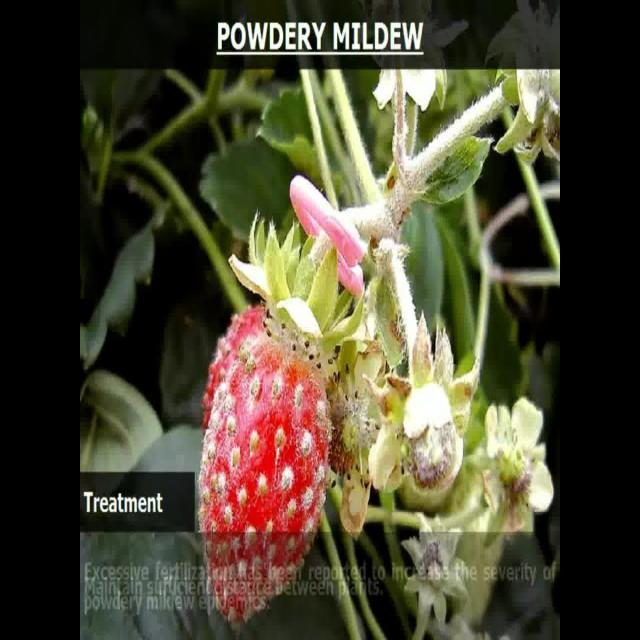Oído: (204, 312, 328, 626)
